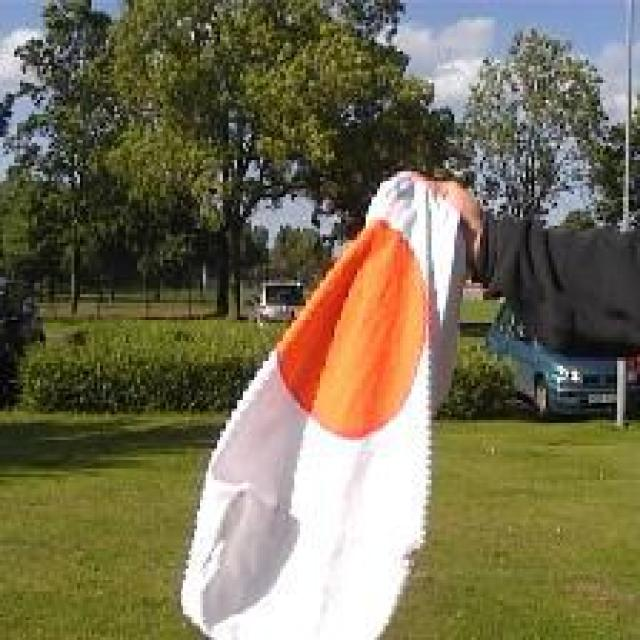other: (270, 223, 447, 440)
